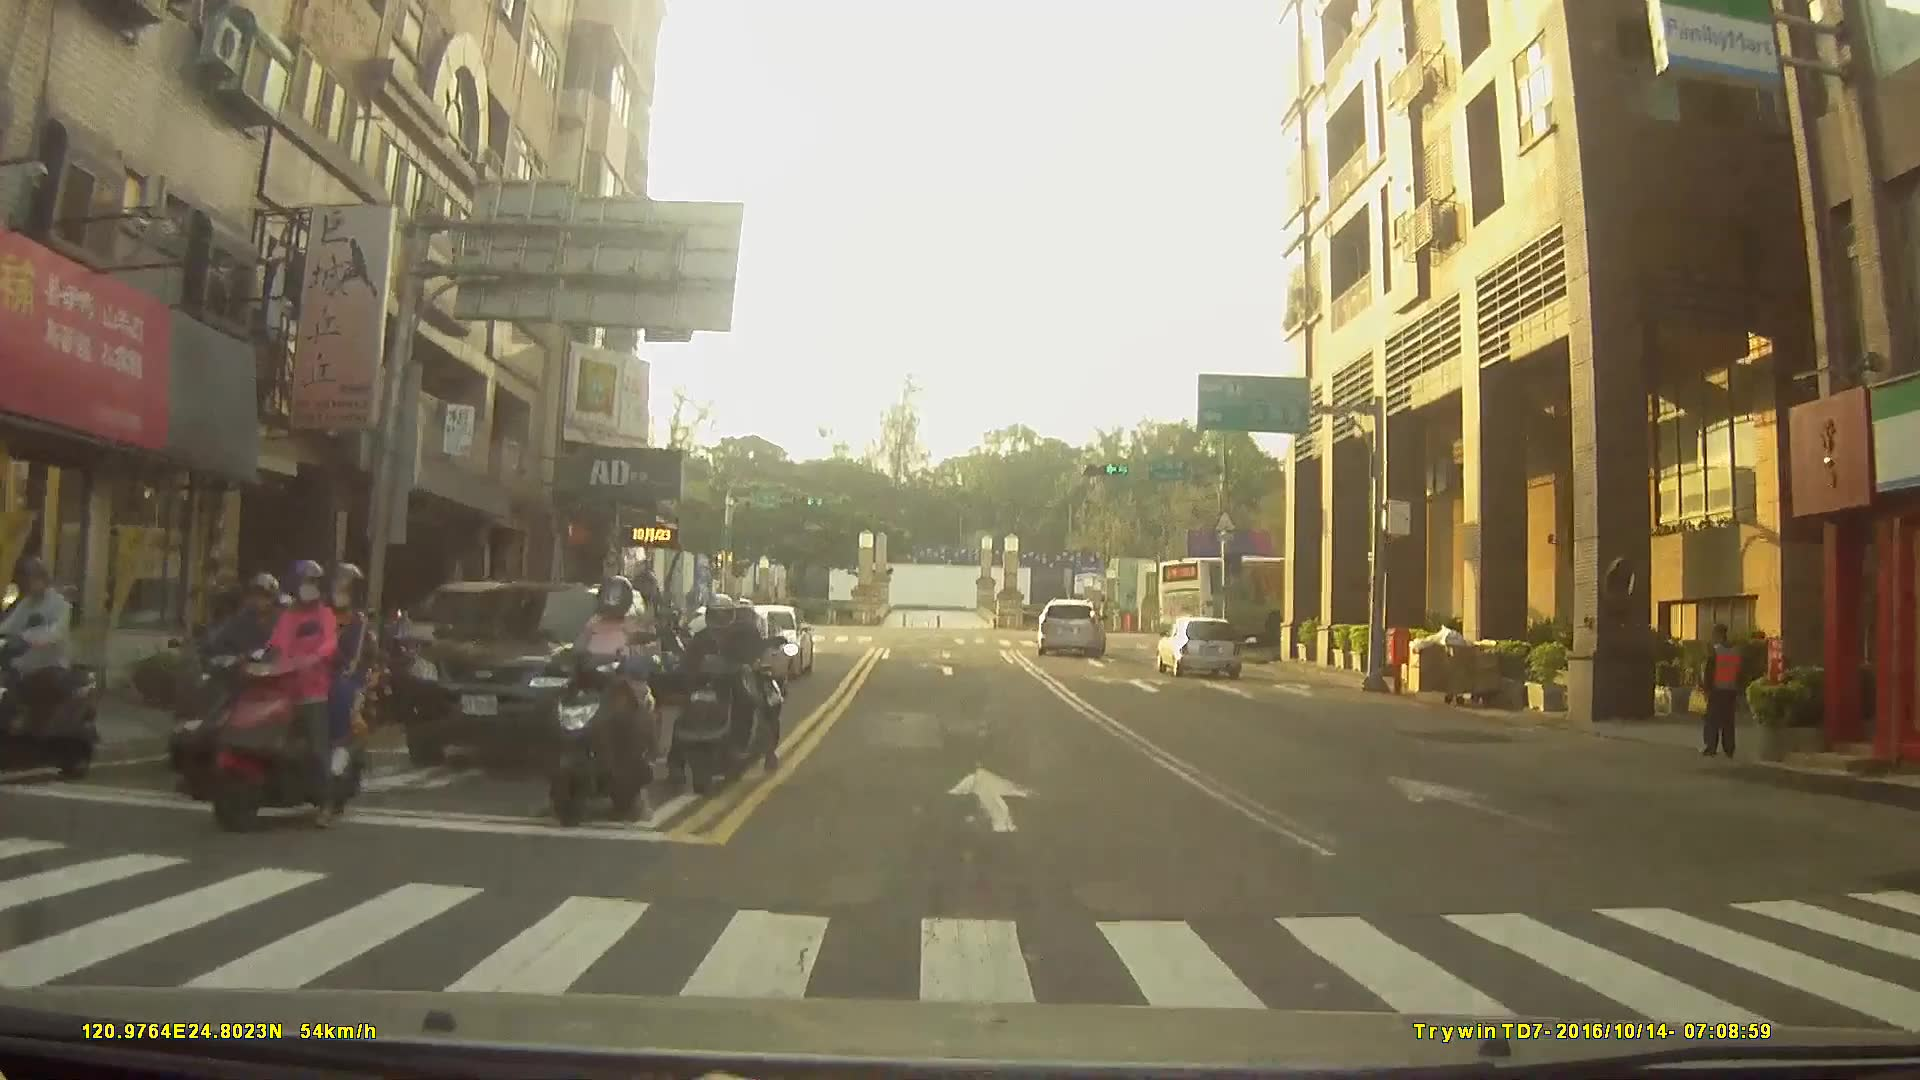pedestrian: (1690, 620, 1753, 762)
rider: (187, 550, 364, 828), (530, 566, 668, 825), (174, 571, 327, 792), (1, 559, 109, 780), (667, 590, 770, 795)
vehicle: (399, 579, 663, 765), (1154, 546, 1396, 639), (1153, 612, 1242, 674), (1035, 595, 1109, 652)
